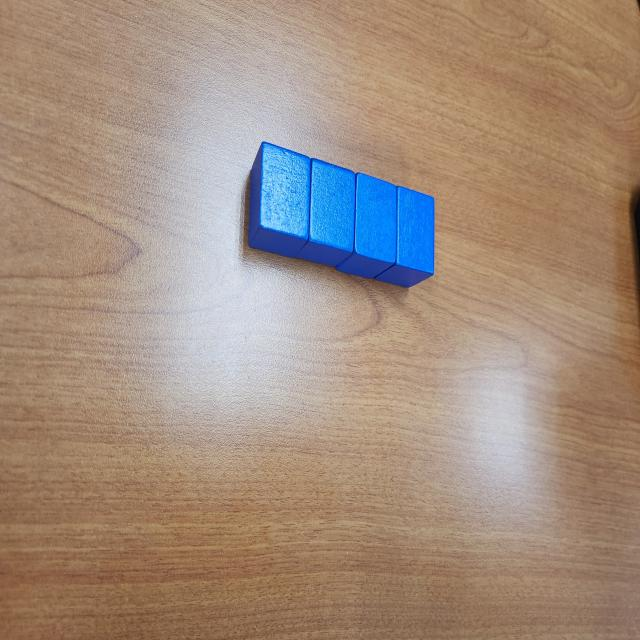blue: (248, 142, 312, 257), (294, 156, 357, 268), (335, 172, 399, 280), (374, 185, 436, 288)
